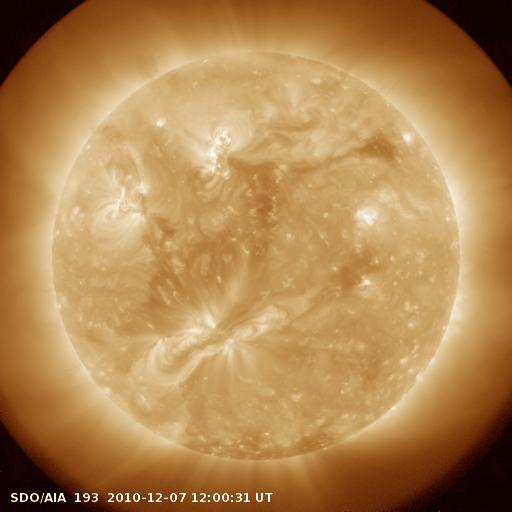coronal_hole: (225, 149, 283, 234), (195, 437, 328, 463), (345, 127, 397, 164), (340, 245, 377, 296)
